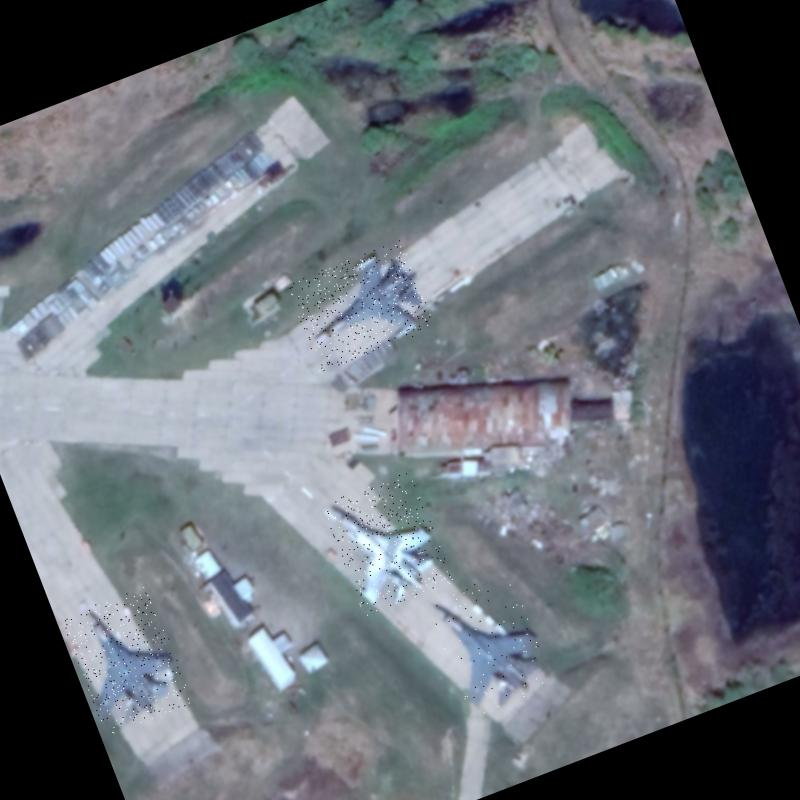A1: (60, 584, 194, 736), (424, 568, 556, 722), (286, 239, 436, 372), (321, 470, 454, 617)
